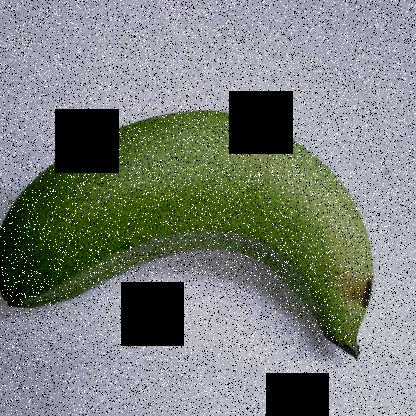freshunripe: (1, 107, 389, 371)
